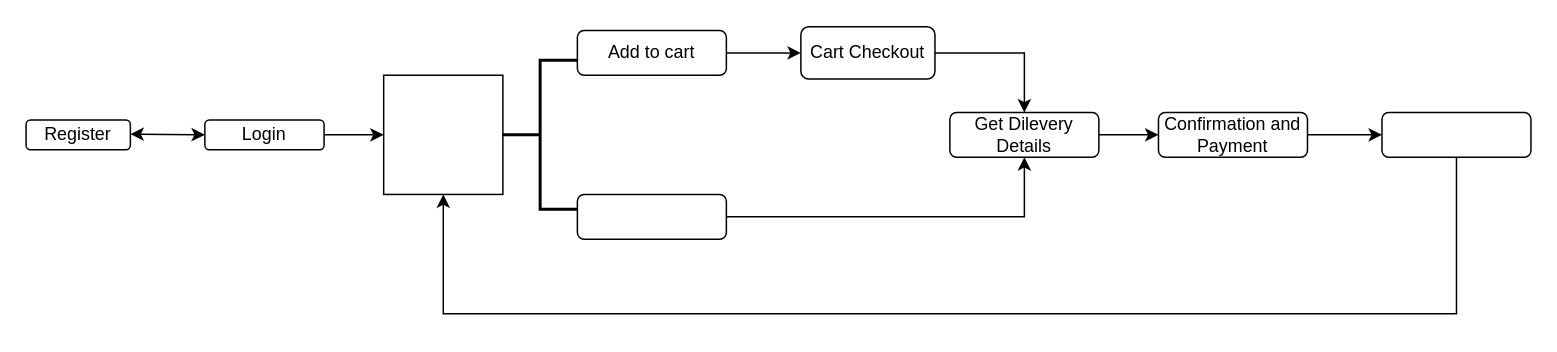
This 1557x352 diagram has some shape labels left out. Each missing label, with the centre of its shape:
Buy Now: [651,216]
Categories / Products: [442,134]
Track Order: [1455,134]
